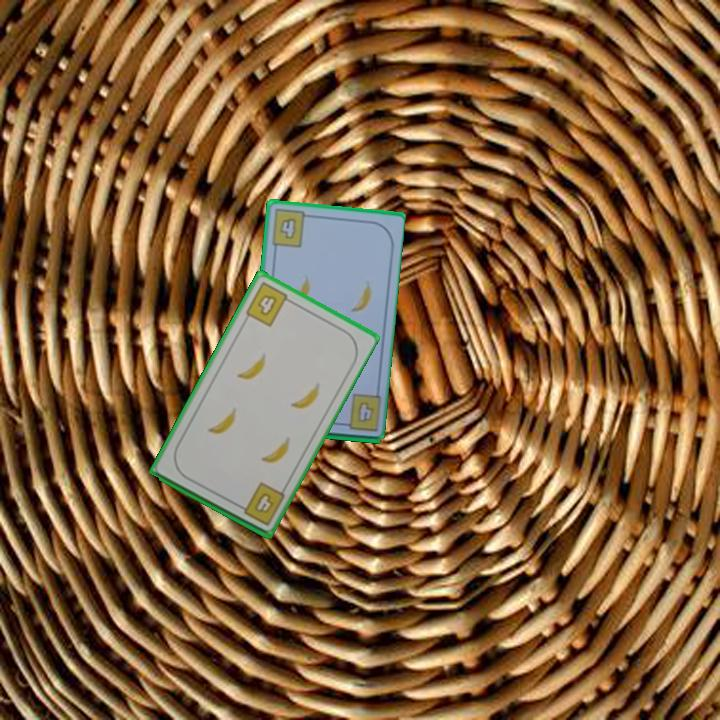4b: (242, 278, 296, 329), (233, 478, 288, 528), (268, 206, 314, 250), (353, 398, 376, 425)
